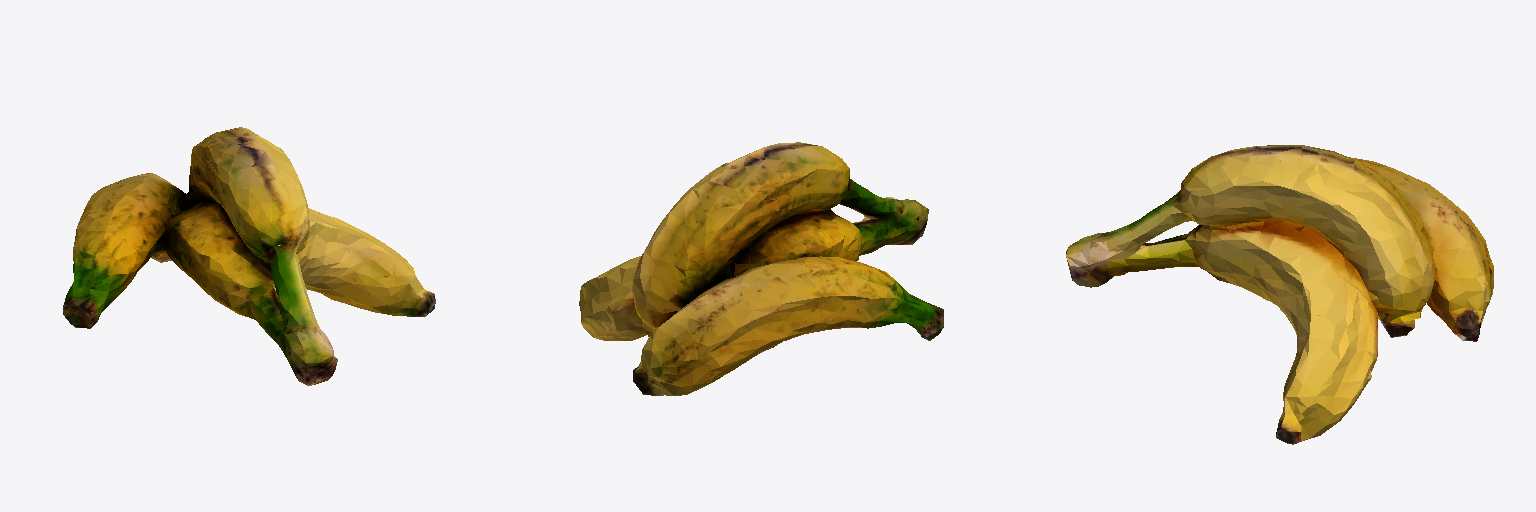
3 views of the same model, side by side, from view 1: azimuth 30°, elevation 25°; view 2: azimuth 150°, elevation 25°; view 3: azimuth 270°, elevation 25° (orthographic).
Visible parts, largest first — view 1: model; view 2: model; view 3: model.
Part boxes in pixels (x1,y1,x2,y2): model: (63,127,435,385); model: (579,142,943,395); model: (1066,145,1493,444).
Size of the model in its own units: 1.09 by 0.5997 by 1.1.
Materials: 1 (1 with a texture image).